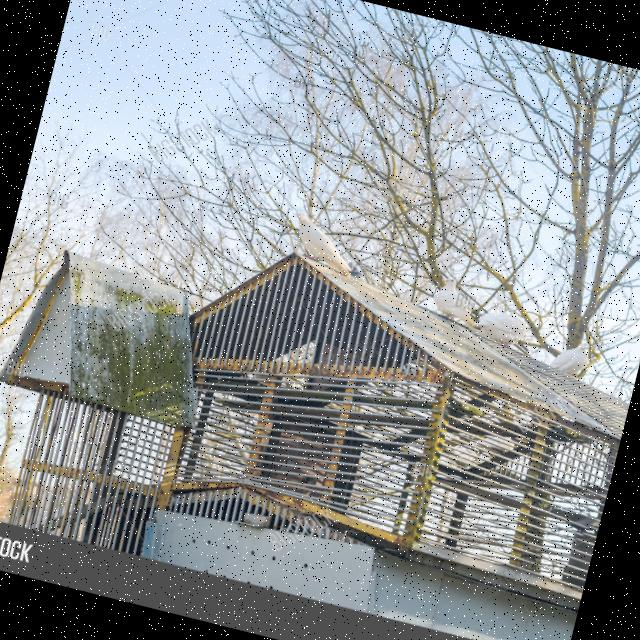bird: (281, 210, 374, 282), (427, 276, 489, 331), (466, 304, 532, 353), (546, 334, 600, 382)
